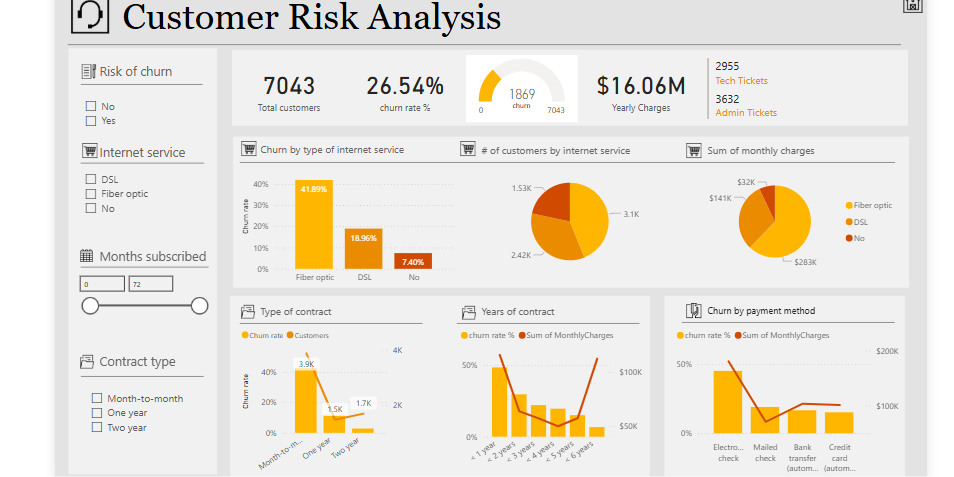

The dashboard page shown, as its layout file describes it:
{"tool":"powerbi","page":{"name":"Customer Risk Analysis","canvas":[1280,720],"ordinal":2},"visuals":[{"type":"basicShape","box":[249.8,87.8,1013.8,113.8],"z":0},{"type":"basicShape","box":[892.2,448.5,360.8,271],"z":1000},{"type":"basicShape","box":[251.8,448.5,628.9,271],"z":2000},{"type":"textbox","box":[94.5,4.8,1167.1,75.2],"z":3000},{"type":"basicShape","box":[9,61,1244.3,40.1],"z":4000},{"type":"basicShape","box":[251.8,214.2,1013.8,226.7],"z":5000},{"type":"basicShape","box":[18.3,81,222.8,638.6],"z":6000},{"type":"card","fields":{"Values":["Count(churn.customerID)"]},"box":[261.4,89,164.9,113.8],"z":7000},{"type":"gauge","fields":{"MaxValue":["CountNonNull(churn.customerID)"],"Y":["churn.Count of Churn for Yes"]},"box":[603.8,96.2,164,99.4],"z":8000},{"type":"slicer","fields":{"Values":["churn.Contract"]},"box":[40.5,584.5,178.4,79.1],"z":9000},{"type":"card","fields":{"Values":["Sum(churn.TotalCharges)"]},"box":[778.4,89,164.9,113.8],"z":10000},{"type":"slicer","fields":{"Values":["churn.Churn"]},"box":[31.8,156.3,173.6,57.9],"z":11000},{"type":"slicer","title":"Number of months subscribed","fields":{"Values":["churn.tenure"]},"box":[24.1,410.9,210.3,70.4],"z":14000},{"type":"image","box":[17.4,4.8,67.5,65.6],"z":15000},{"type":"textbox","box":[59.8,102.2,174.6,40.5],"z":16000},{"type":"basicShape","box":[28,120.6,198.7,39.5],"z":17000},{"type":"textbox","box":[59.8,374.3,185.2,39.5],"z":18000},{"type":"basicShape","box":[28,389.7,207.4,38.6],"z":19000},{"type":"basicShape","box":[28,549.8,200.6,39.5],"z":20000},{"type":"image","box":[31.8,374.3,28,34.7],"z":21000},{"type":"textbox","box":[59.8,529.6,159.2,40.5],"z":22000},{"type":"image","box":[31.8,105.1,34.7,30.9],"z":23000},{"type":"image","box":[31.8,524.7,29.9,45.3],"z":24000},{"type":"textbox","box":[59.8,221.2,180.4,40.5],"z":25000},{"type":"basicShape","box":[28,237,200.6,38.6],"z":26000},{"type":"slicer","fields":{"Values":["churn.InternetService"]},"box":[31.8,263.3,200.6,78.1],"z":27000},{"type":"card","fields":{"Values":["churn.churn rate %"]},"box":[437,89,156.3,113.8],"z":28000},{"type":"lineClusteredColumnComboChart","fields":{"Category":["churn.Contract"],"Y":["churn.churn rate %"],"Y2":["CountNonNull(churn.customerID)"]},"box":[269.1,489,246.9,230.5],"z":29000},{"type":"lineClusteredColumnComboChart","fields":{"Y":["churn.churn rate %"],"Y2":["Sum(churn.MonthlyCharges)"],"Category":["churn.Loyalty"]},"box":[591.3,489,276.8,230.5],"z":30000},{"type":"textbox","box":[296.1,220,300.9,40.5],"z":31000},{"type":"basicShape","box":[261.4,234.4,982.9,39.5],"z":32000},{"type":"clusteredColumnChart","fields":{"Category":["churn.InternetService"],"Y":["churn.churn rate %"]},"box":[269.1,242.1,322.2,198.7],"z":33000},{"type":"pieChart","fields":{"Y":["Sum(churn.MonthlyCharges)"],"Category":["churn.InternetService"]},"box":[949.1,264.3,295.2,154.3],"z":34000},{"type":"pieChart","fields":{"Category":["churn.InternetService"],"Y":["CountNonNull(churn.customerID)"]},"box":[622.2,261.4,270.1,160.1],"z":35000},{"type":"textbox","box":[954,221.9,283.6,40.5],"z":36000},{"type":"textbox","box":[622.2,221.9,285.5,40.5],"z":37000},{"type":"basicShape","box":[261.4,471.7,288.4,39.5],"z":38000},{"type":"textbox","box":[296.1,459.1,237.3,40.5],"z":39000},{"type":"textbox","box":[622.2,459.1,270.1,40.5],"z":40000},{"type":"basicShape","box":[579.7,471.7,288.4,39.5],"z":41000},{"type":"lineClusteredColumnComboChart","fields":{"Y":["churn.churn rate %"],"Y2":["Sum(churn.MonthlyCharges)"],"Category":["churn.PaymentMethod"]},"box":[907.7,489,336.6,230.5],"z":42000},{"type":"basicShape","box":[911.5,469.8,332.8,39.5],"z":43000},{"type":"textbox","box":[954.3,459.1,270.1,40.5],"z":44000},{"type":"multiRowCard","fields":{"Values":["Sum(churn.numTechTickets)","Sum(churn.numAdminTickets)"]},"box":[954,96.2,207.4,99.4],"z":45000},{"type":"image","box":[922.1,452.4,31.8,39.5],"z":46000},{"type":"image","box":[593.2,452.4,29.9,45.3],"z":47000},{"type":"image","box":[269.1,451.4,29.9,45.3],"z":48000},{"type":"image","box":[34.7,219.9,31.8,34.7],"z":49000},{"type":"image","box":[269.1,217,31.8,34.7],"z":50000},{"type":"image","box":[591.3,217,31.8,34.7],"z":51000},{"type":"image","box":[922.1,219.9,31.8,34.7],"z":52000},{"type":"textbox","box":[666.5,156.3,57.9,28.9],"z":53000},{"type":"image","box":[1242,0,38,42.9],"z":55000}]}

Visuals, with their boxes on the page's 1280x720 design canvas (x1, y1, x2, y2). These are canvas units, not pixel positions in the 954x477 screenshot, which may show the page scaled, cropped or inside an application window:
basicShape: Rect(250, 88, 1264, 202)
basicShape: Rect(892, 448, 1253, 720)
basicShape: Rect(252, 448, 881, 720)
textbox: Rect(94, 5, 1262, 80)
basicShape: Rect(9, 61, 1253, 101)
basicShape: Rect(252, 214, 1266, 441)
basicShape: Rect(18, 81, 241, 720)
card - Count(churn.customerID): Rect(261, 89, 426, 203)
gauge - CountNonNull(churn.customerID) x churn.Count of Churn for Yes: Rect(604, 96, 768, 196)
slicer - churn.Contract: Rect(40, 584, 219, 664)
card - Sum(churn.TotalCharges): Rect(778, 89, 943, 203)
slicer - churn.Churn: Rect(32, 156, 205, 214)
"Number of months subscribed" slicer: Rect(24, 411, 234, 481)
image: Rect(17, 5, 85, 70)
textbox: Rect(60, 102, 234, 143)
basicShape: Rect(28, 121, 227, 160)
textbox: Rect(60, 374, 245, 414)
basicShape: Rect(28, 390, 235, 428)
basicShape: Rect(28, 550, 229, 589)
image: Rect(32, 374, 60, 409)
textbox: Rect(60, 530, 219, 570)
image: Rect(32, 105, 66, 136)
image: Rect(32, 525, 62, 570)
textbox: Rect(60, 221, 240, 262)
basicShape: Rect(28, 237, 229, 276)
slicer - churn.InternetService: Rect(32, 263, 232, 341)
card - churn.churn rate %: Rect(437, 89, 593, 203)
lineClusteredColumnComboChart - churn.Contract x churn.churn rate %: Rect(269, 489, 516, 720)
lineClusteredColumnComboChart - churn.churn rate % x Sum(churn.MonthlyCharges): Rect(591, 489, 868, 720)
textbox: Rect(296, 220, 597, 260)
basicShape: Rect(261, 234, 1244, 274)
clusteredColumnChart - churn.InternetService x churn.churn rate %: Rect(269, 242, 591, 441)
pieChart - Sum(churn.MonthlyCharges) x churn.InternetService: Rect(949, 264, 1244, 419)
pieChart - churn.InternetService x CountNonNull(churn.customerID): Rect(622, 261, 892, 422)
textbox: Rect(954, 222, 1238, 262)
textbox: Rect(622, 222, 908, 262)
basicShape: Rect(261, 472, 550, 511)
textbox: Rect(296, 459, 533, 500)
textbox: Rect(622, 459, 892, 500)
basicShape: Rect(580, 472, 868, 511)
lineClusteredColumnComboChart - churn.churn rate % x Sum(churn.MonthlyCharges): Rect(908, 489, 1244, 720)
basicShape: Rect(912, 470, 1244, 509)
textbox: Rect(954, 459, 1224, 500)
multiRowCard - Sum(churn.numTechTickets) x Sum(churn.numAdminTickets): Rect(954, 96, 1161, 196)
image: Rect(922, 452, 954, 492)
image: Rect(593, 452, 623, 498)
image: Rect(269, 451, 299, 497)
image: Rect(35, 220, 66, 255)
image: Rect(269, 217, 301, 252)
image: Rect(591, 217, 623, 252)
image: Rect(922, 220, 954, 255)
textbox: Rect(666, 156, 724, 185)
image: Rect(1242, 0, 1280, 43)
